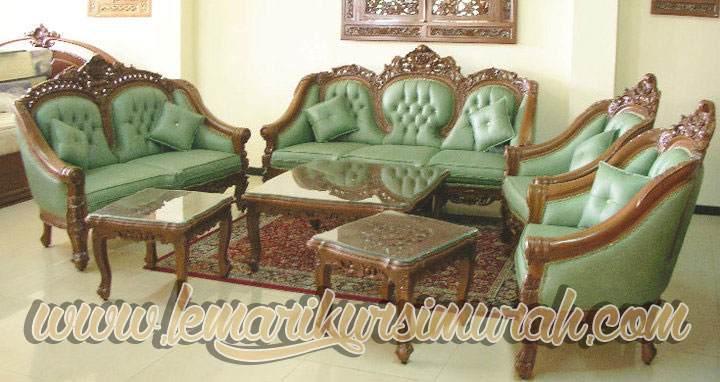Carving Chair: (501, 86, 706, 376), (276, 60, 514, 220), (17, 71, 246, 235)
Carving Table: (308, 209, 480, 328), (94, 185, 239, 300)
